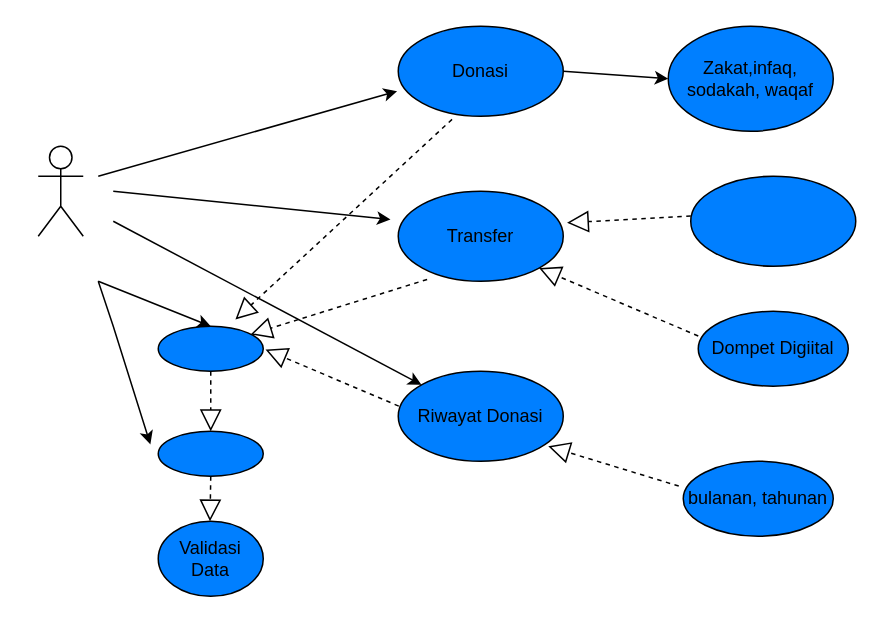
The diagram is 882 pixels wide and 623 high, and some of its shapes have lost their labels. The centre of each missing label's shape, as x and y in pixels:
"Donaturr" belongs at (x=60, y=190).
"Login" belongs at (x=210, y=348).
"Register" belongs at (x=210, y=453).
"rekening Bank Syariah" belongs at (x=772, y=220).
